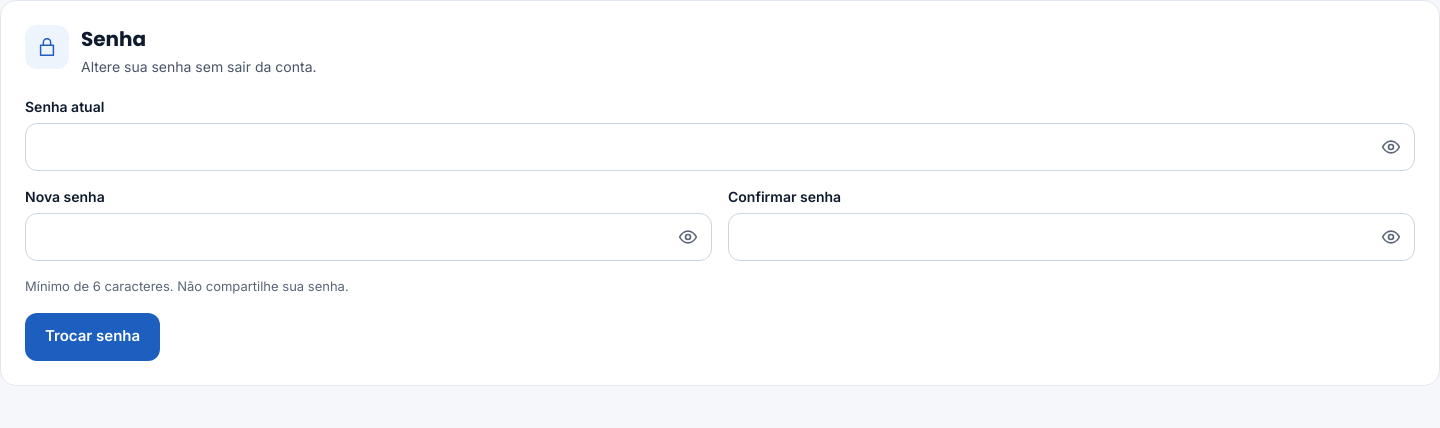
Test: valida nova e confirmação sem enviar: 123/123
Type "atual123" into the password field labelled "Senha atual" at (720, 147), box [25,123,1415,171]
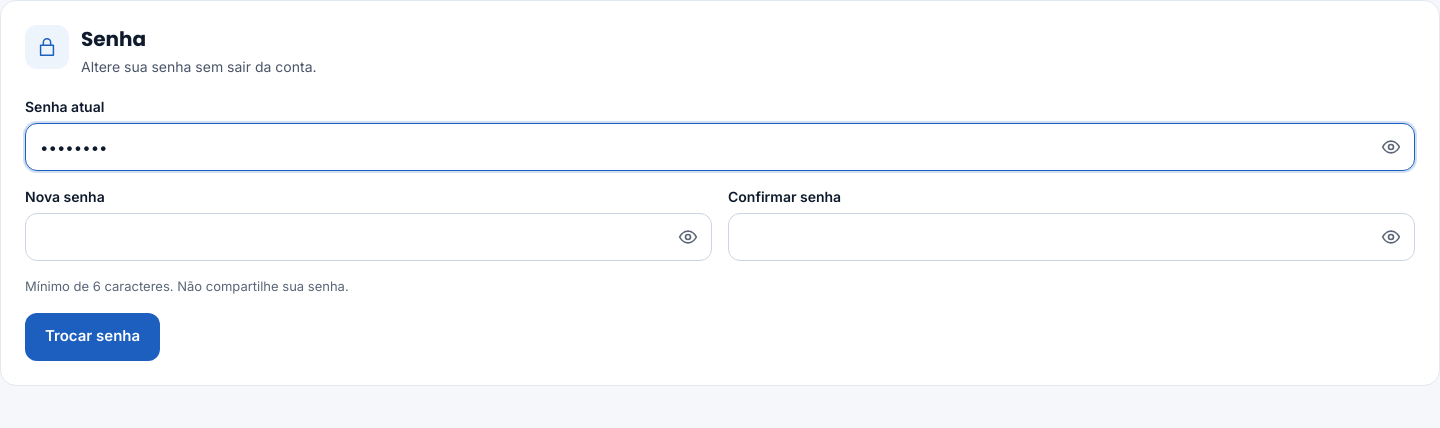
Type "123" into the password field labelled "Nova senha" at (368, 237), box [25,213,712,261]
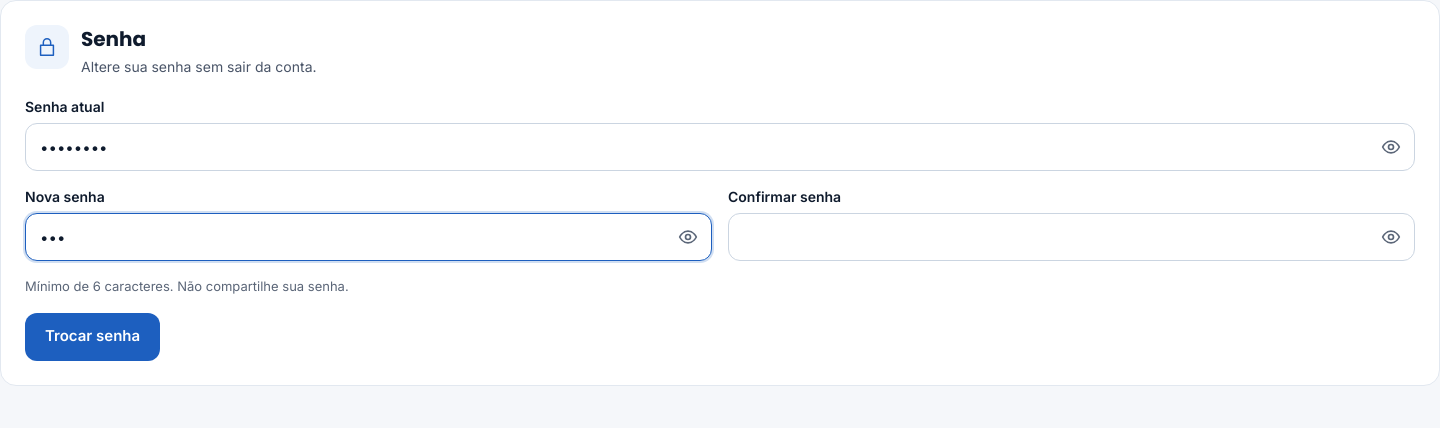
Type "123" into the password field labelled "Confirmar senha" at (1072, 237), box [728,213,1415,261]
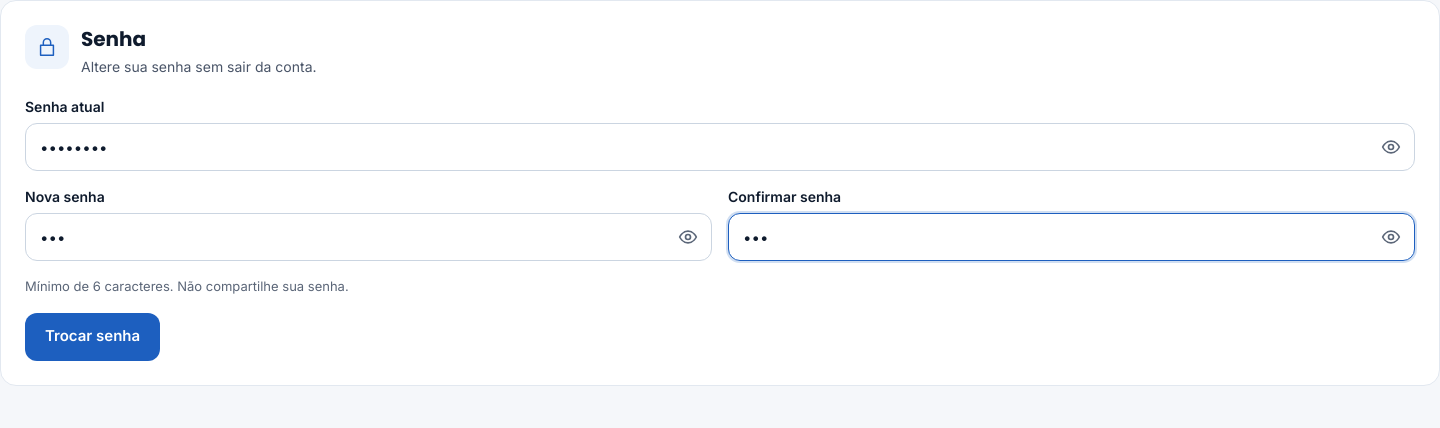
Click the button "Trocar senha" at (93, 336), box [25,312,160,360]
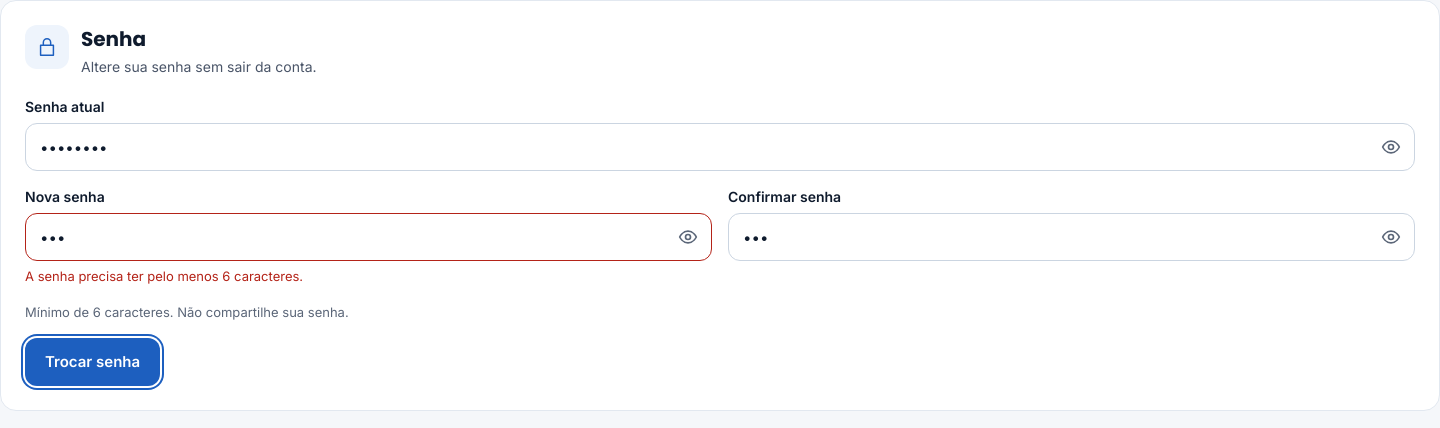
expect the text "A senha precisa ter pelo menos 6 caracteres." is shown: met, box [25,268,303,284]
